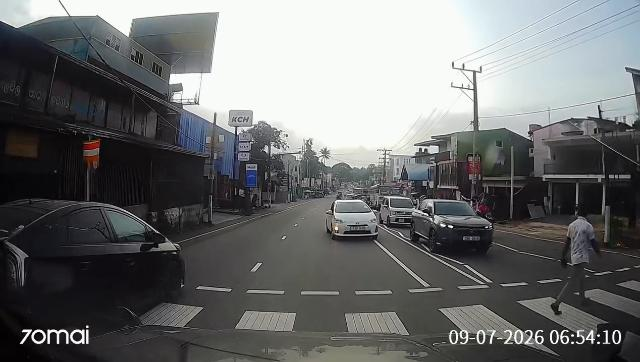illegal overtaking: (321, 196, 382, 243)
